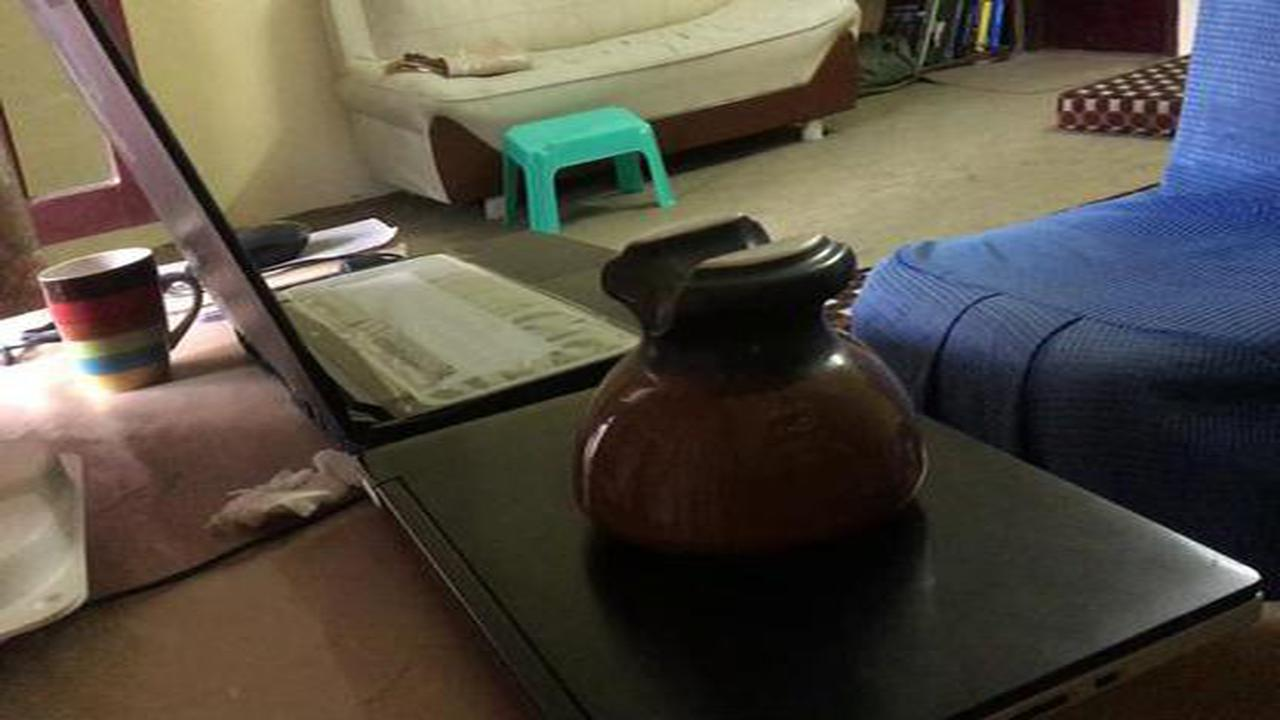insulator_pin: (530, 200, 964, 592)
